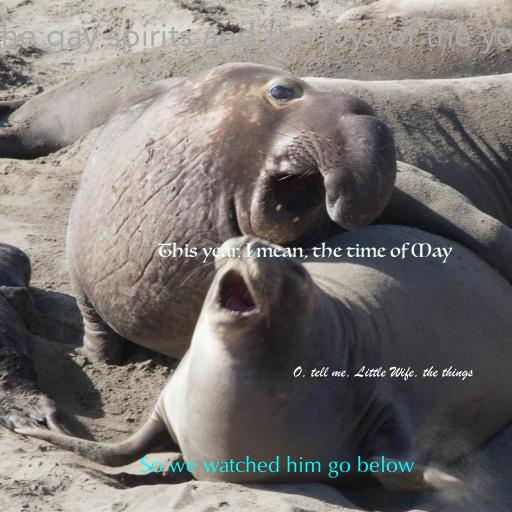Avenir: (0, 21, 512, 54)
Brush Script MT: (293, 366, 473, 381)
Luminari: (158, 242, 452, 263)
Optima: (140, 455, 414, 478)
